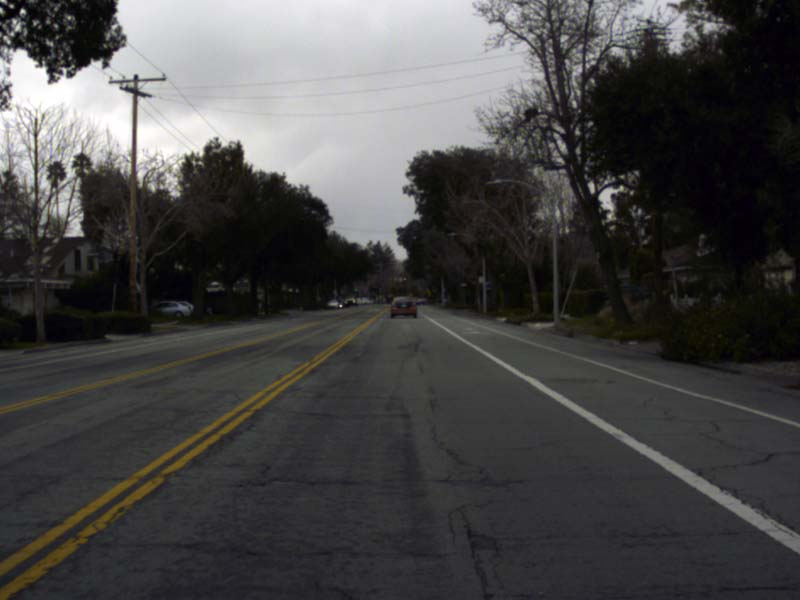Green: (354, 285, 358, 292)
Red: (390, 277, 392, 282), (403, 278, 405, 282)
